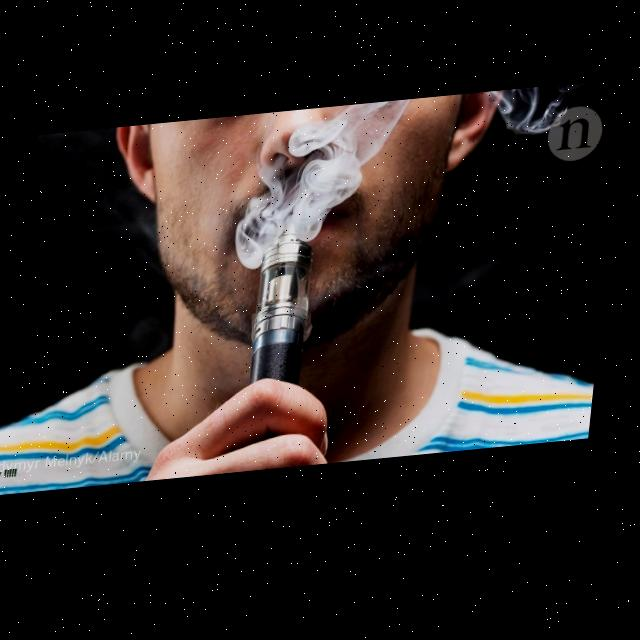vape: (256, 232, 323, 394)
